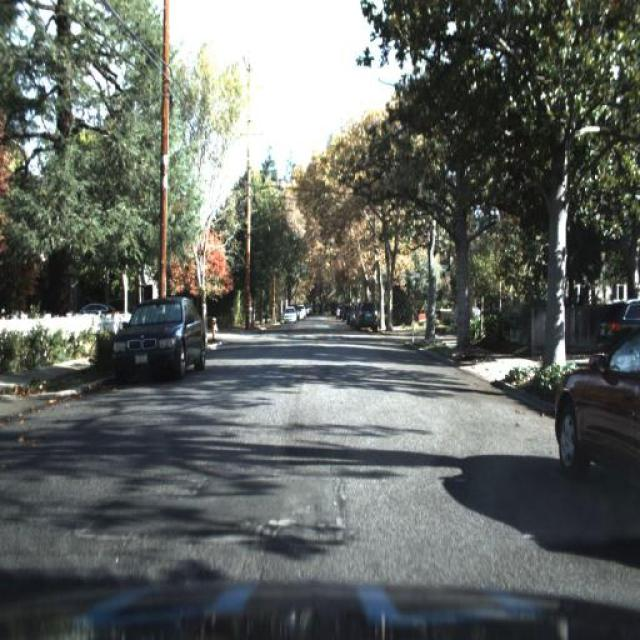car: (552, 320, 640, 518), (112, 294, 208, 384)
